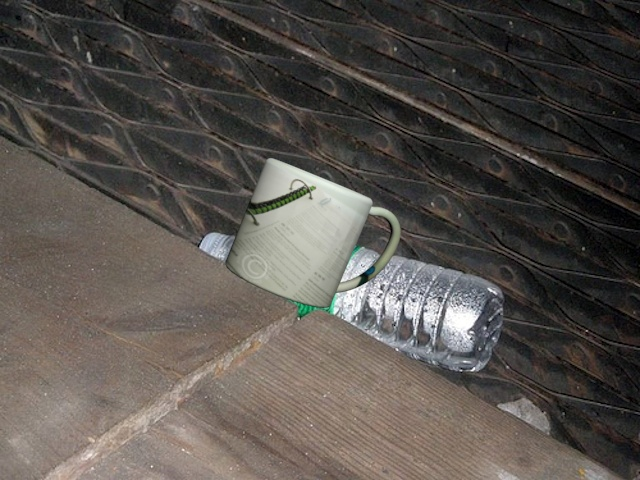mug: (225, 145, 408, 316)
